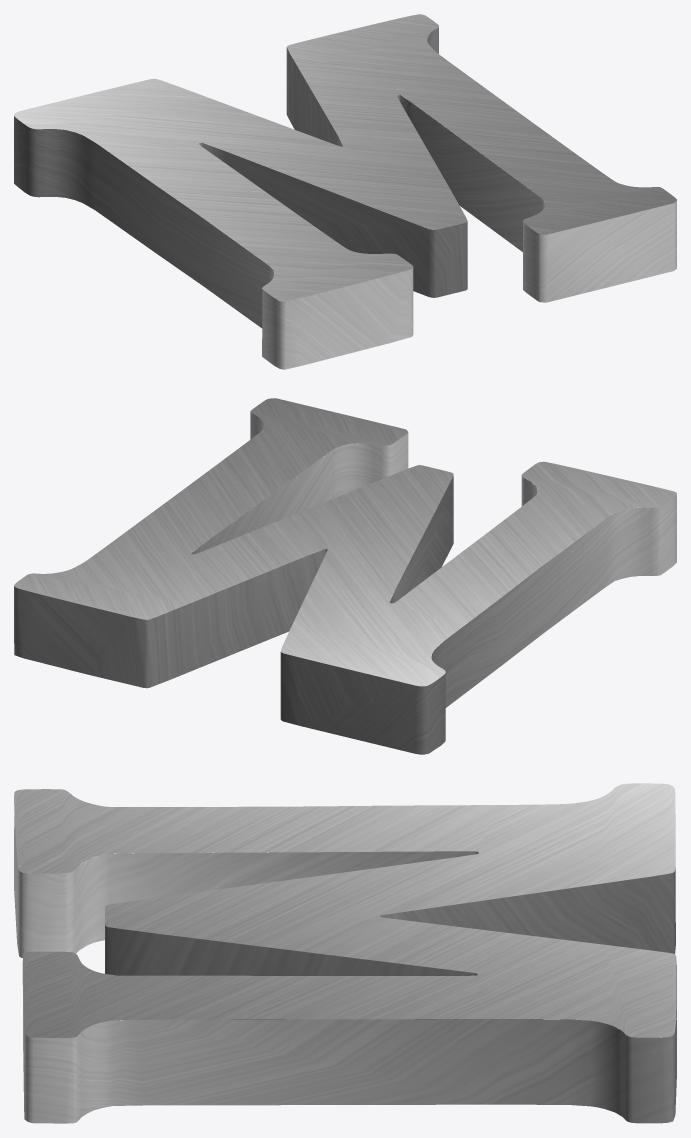
The picture shows the model from 3 angles, top to bottom: view 1: azimuth 30°, elevation 25°; view 2: azimuth 150°, elevation 25°; view 3: azimuth 270°, elevation 25°; orthographic projection. The views are drawn at different scales.
Visible parts, largest first — view 1: M1; view 2: M1; view 3: M1.
Boxes of the visible parts, bbox=[...] form: M1: bbox=[14, 14, 676, 369]; M1: bbox=[14, 398, 676, 754]; M1: bbox=[14, 783, 676, 1123].
Size of the model in its own units: 3.19 by 0.5 by 3.51.
1 material, 1 textured.
